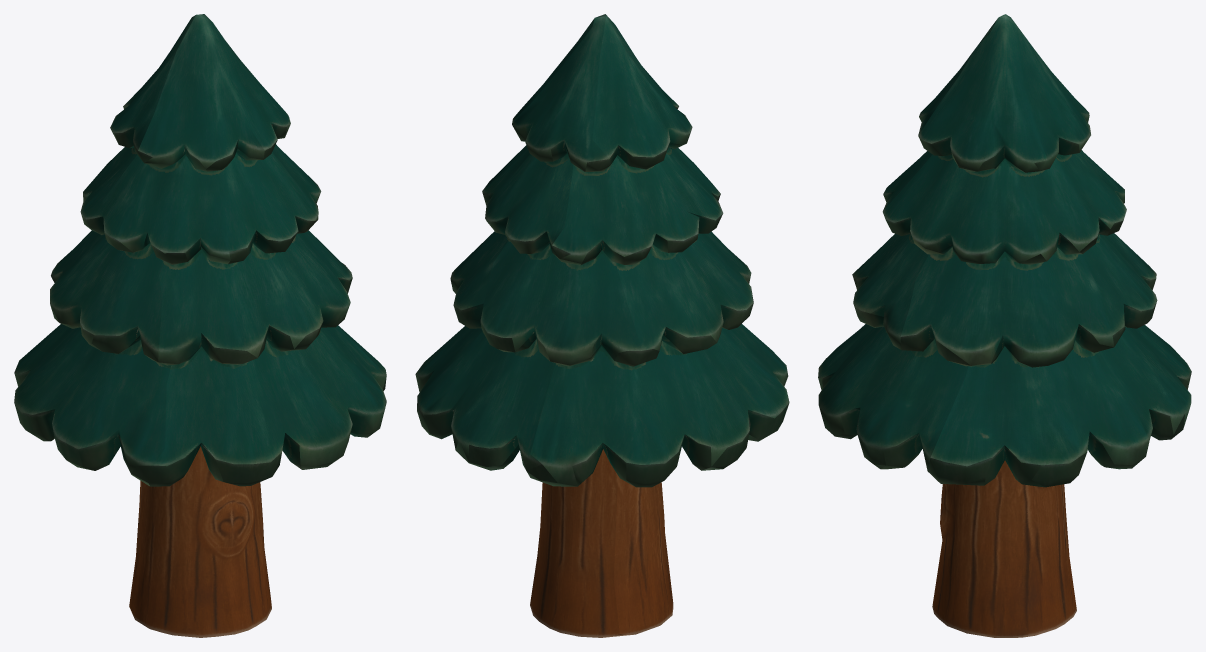
The model's file is tree_b.glb.
3 views of the same model, side by side, from view 1: azimuth 30°, elevation 25°; view 2: azimuth 150°, elevation 25°; view 3: azimuth 270°, elevation 25° (orthographic).
Visible parts, largest first — view 1: low; view 2: low; view 3: low.
Boxes of the visible parts, x1=… form: low: x1=14, y1=14, x2=386, y2=637; low: x1=415, y1=14, x2=789, y2=637; low: x1=818, y1=14, x2=1191, y2=637.
Size of the model in its own units: 0.5637 by 1 by 0.5722.
1 material, 1 textured.
